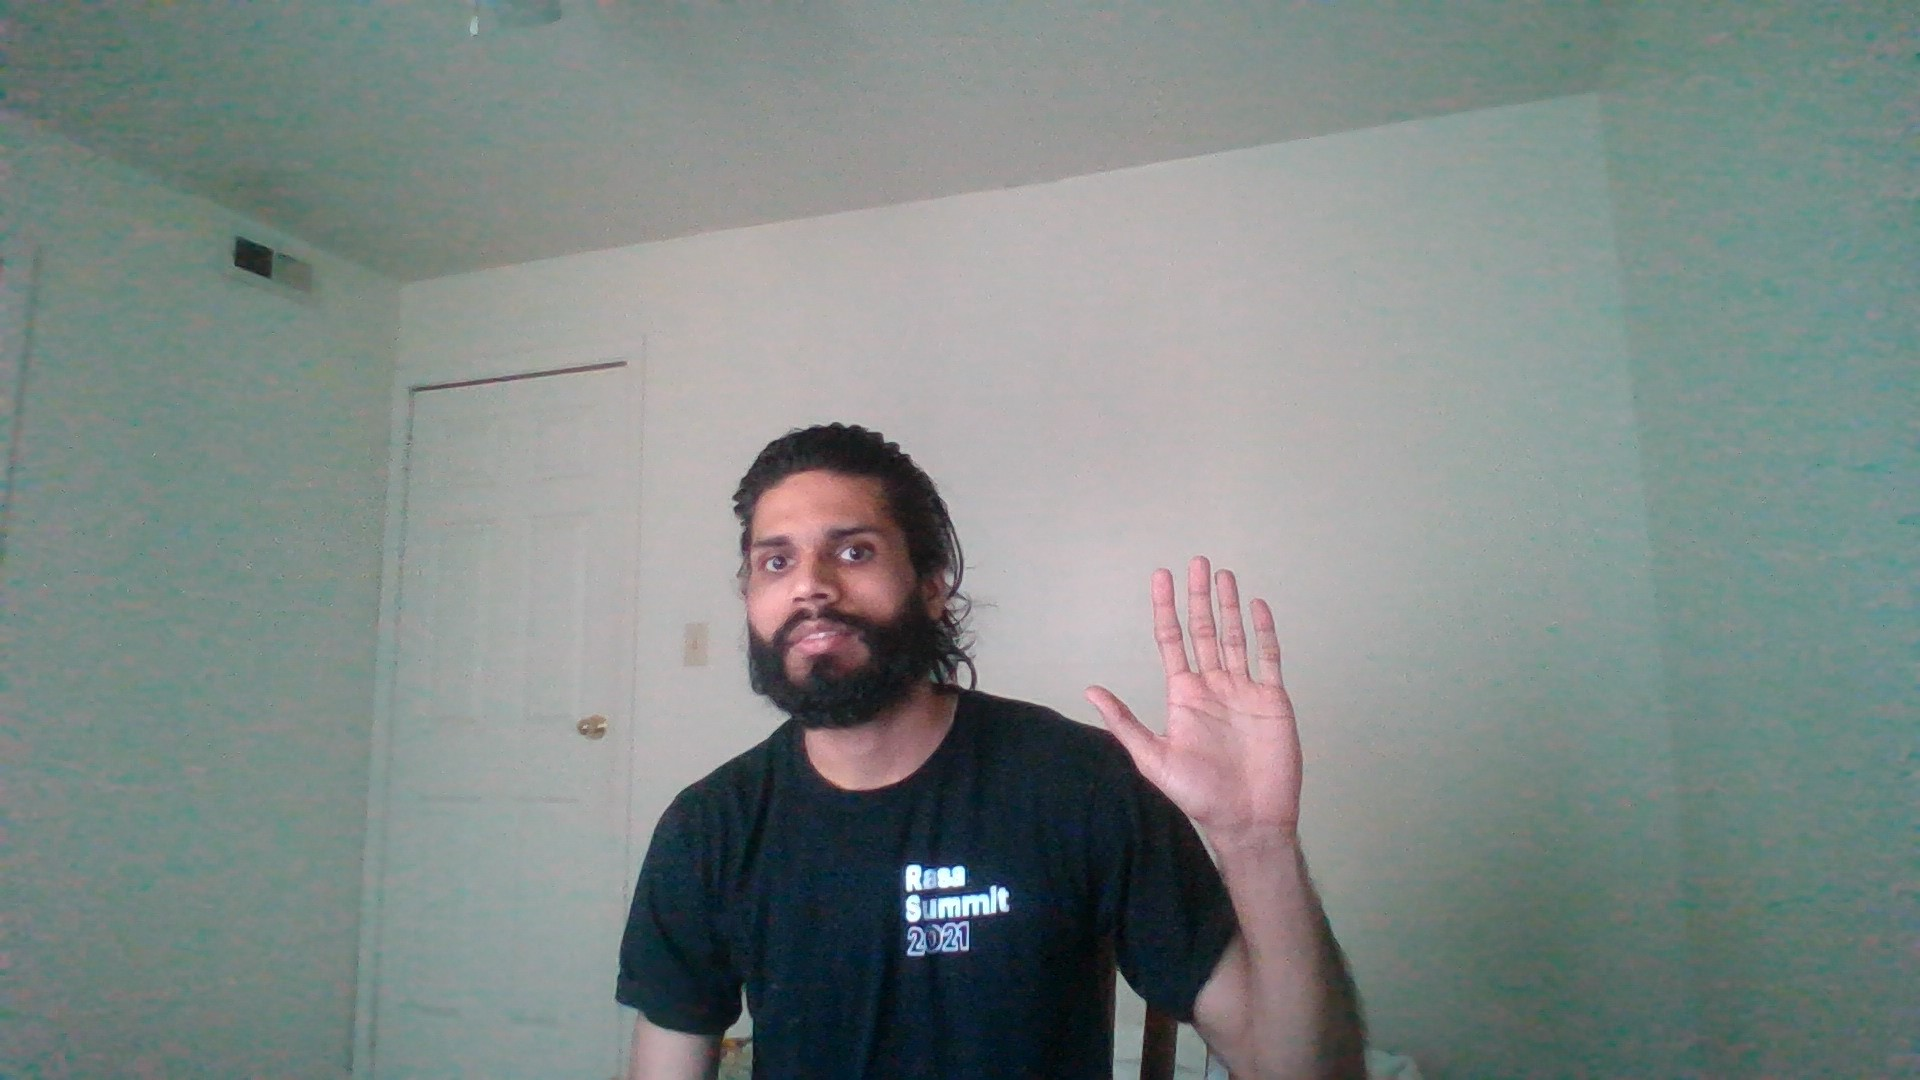Hello: (1023, 542, 1425, 868)
